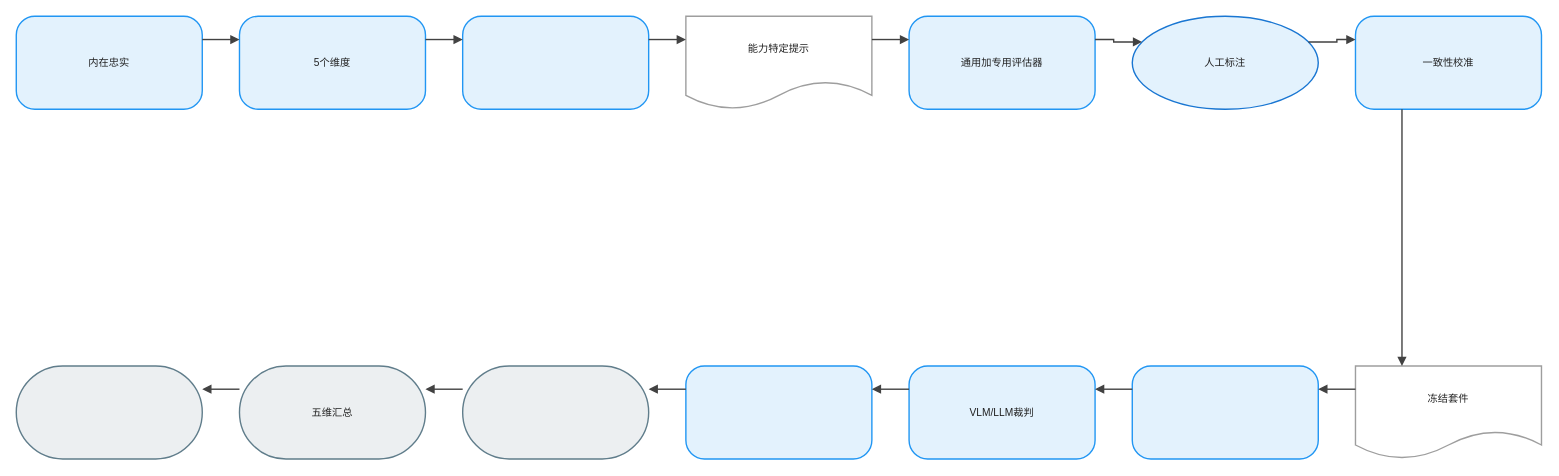
Image size: 1559x476. Some labels were removed from this diagram. The shapes that lost their labels are listed below. From the top down, each one's box as (x1, y1, x2, y2) in pixels, then its label:
(462, 15, 649, 110): 细粒度能力
(15, 365, 203, 459): 忠实画像
(462, 365, 649, 459): 能力得分
(685, 365, 872, 459): 专用检测器
(1131, 365, 1319, 459): 生成视频
